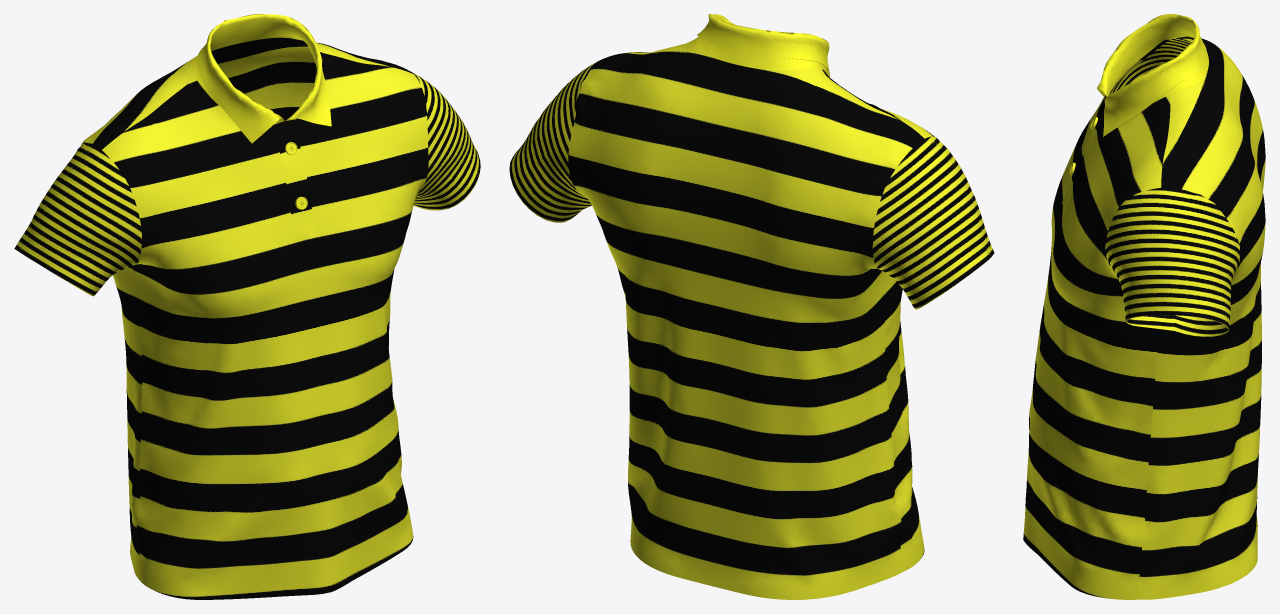
File: clothes.glb
3 renders of one model, left to right at view 1: azimuth 30°, elevation 25°; view 2: azimuth 150°, elevation 25°; view 3: azimuth 270°, elevation 25°, orthographic. The views are drawn at different scales.
Parts seen in each view (by area): view 1: Body_Front_Node_5, Body_Back_Node_6, Sleeves_Node_8, Collar_Node_2, Sleeves_Node_7, Body_Front_Placket_Node_3; view 2: Body_Back_Node_6, Sleeves_Node_8, Sleeves_Node_7, Body_Front_Node_5, Collar_Node_2; view 3: Body_Front_Node_5, Body_Back_Node_6, Sleeves_Node_7, Collar_Node_2, Sleeves_Node_8, Body_Front_Placket_Node_3.
Boxes of the visible parts, bbox=[...] form: Body_Front_Node_5: bbox=[102, 52, 428, 599]; Body_Back_Node_6: bbox=[79, 36, 412, 578]; Sleeves_Node_8: bbox=[14, 142, 141, 296]; Collar_Node_2: bbox=[191, 14, 331, 143]; Sleeves_Node_7: bbox=[411, 72, 480, 210]; Body_Front_Placket_Node_3: bbox=[273, 120, 315, 241]; Body_Back_Node_6: bbox=[568, 39, 924, 599]; Sleeves_Node_8: bbox=[872, 136, 994, 309]; Sleeves_Node_7: bbox=[509, 60, 599, 222]; Body_Front_Node_5: bbox=[619, 52, 934, 571]; Collar_Node_2: bbox=[693, 14, 829, 77]; Body_Front_Node_5: bbox=[1023, 38, 1170, 599]; Body_Back_Node_6: bbox=[1137, 34, 1265, 599]; Sleeves_Node_7: bbox=[1105, 187, 1240, 336]; Collar_Node_2: bbox=[1097, 14, 1208, 136]; Sleeves_Node_8: bbox=[1110, 38, 1191, 94]; Body_Front_Placket_Node_3: bbox=[1062, 102, 1104, 205].
Size of the model in its own units: 0.6009 by 0.6608 by 0.2832.
Materials: 6 (4 with a texture image).
